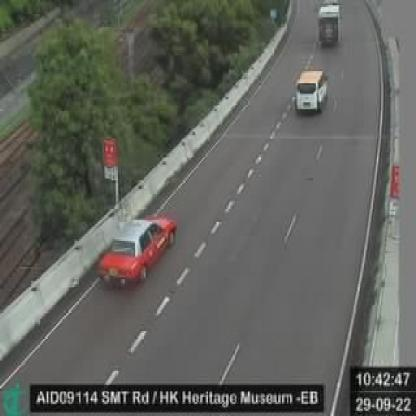Car: (96, 206, 185, 288), (293, 71, 330, 113)
Truck: (316, 0, 342, 45)
